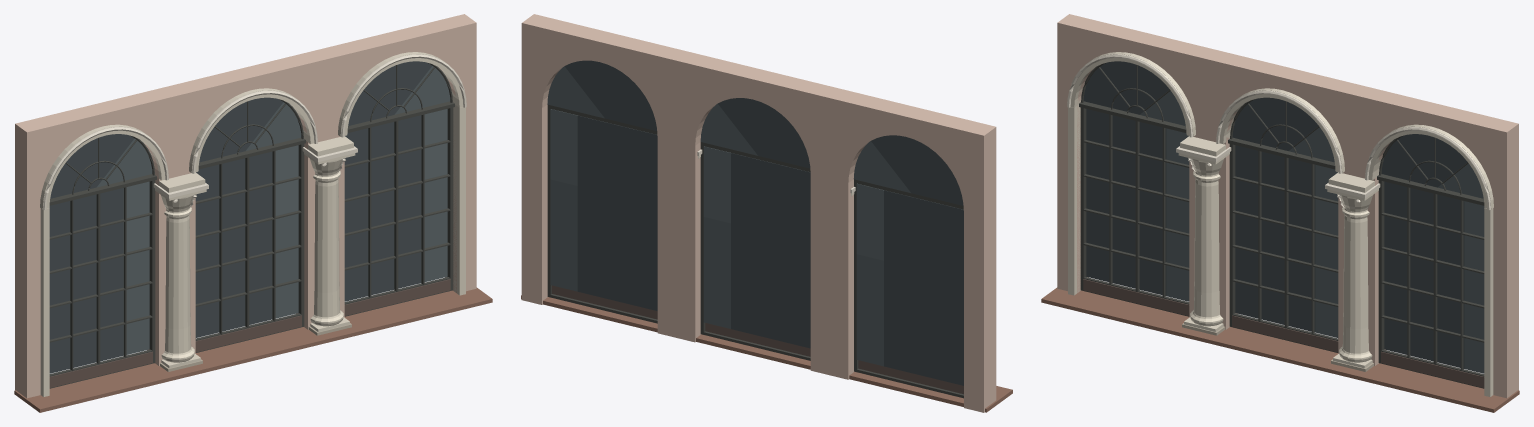
The model's file is xuhui-zhang-shuxun-garden-arcade-lod.glb.
The picture shows the model from 3 angles, left to right: view 1: azimuth 30°, elevation 25°; view 2: azimuth 150°, elevation 25°; view 3: azimuth 330°, elevation 25°; orthographic projection. The views are drawn at different scales.
Visible parts, largest first — view 1: 张叔驯故居花园面三联钢窗券廊; view 2: 张叔驯故居花园面三联钢窗券廊; view 3: 张叔驯故居花园面三联钢窗券廊.
Boxes of the visible parts, bbox=[...] form: 张叔驯故居花园面三联钢窗券廊: bbox=[14, 14, 492, 412]; 张叔驯故居花园面三联钢窗券廊: bbox=[521, 14, 1012, 412]; 张叔驯故居花园面三联钢窗券廊: bbox=[1041, 14, 1519, 412].
Bounding box in the file's own units: 6.29 × 3.58 × 0.6355.
